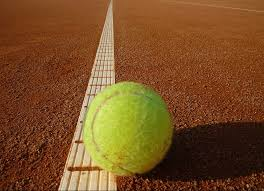tennis_ball: (81, 80, 175, 178)
